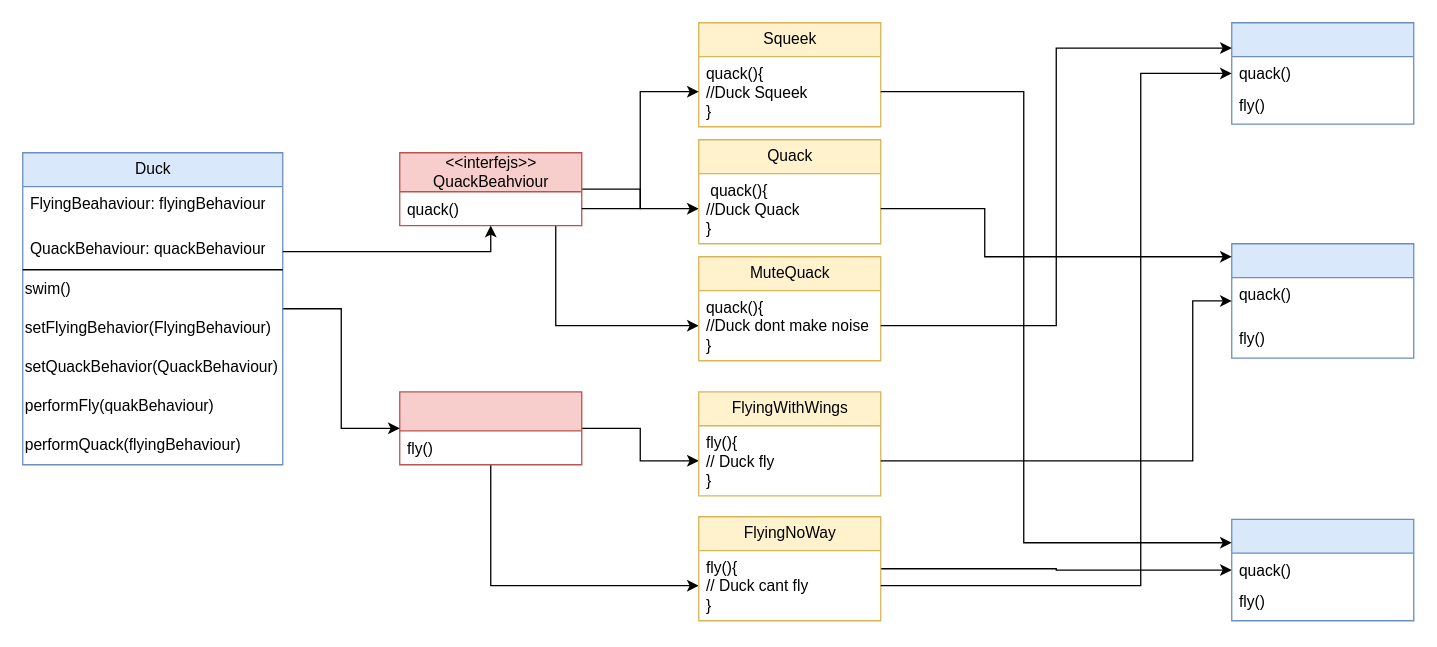
Some shapes in this 1437 by 647 pixel diagram are drawn without their labels. Here are the shapes that lost their labels. From the top down, the box of each, then its label:
(1230, 21, 1414, 124): ModelDuck
(1230, 242, 1414, 358): MallardDuck
(398, 391, 582, 465): <<interfejs>> FlyingBeahviour
(1230, 518, 1414, 621): RubberDuck
